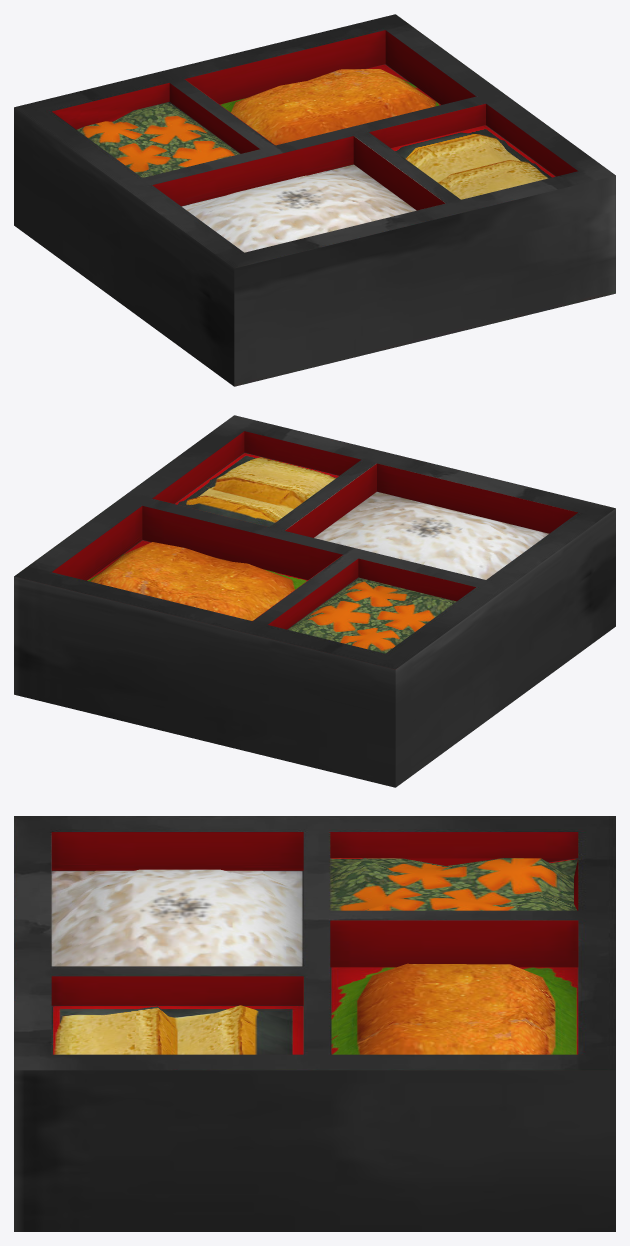
The model's file is bento.glb.
The picture shows the model from 3 angles, top to bottom: view 1: azimuth 30°, elevation 25°; view 2: azimuth 150°, elevation 25°; view 3: azimuth 270°, elevation 25°; orthographic projection. The views are drawn at different scales.
Parts seen in each view (by area): view 1: bento; view 2: bento; view 3: bento.
Boxes of the visible parts, bbox=[...] form: bento: bbox=[14, 14, 615, 386]; bento: bbox=[14, 415, 615, 787]; bento: bbox=[14, 816, 615, 1231].
Size of the model in its own units: 0.22 by 0.0651 by 0.22.
1 material, 1 textured.
